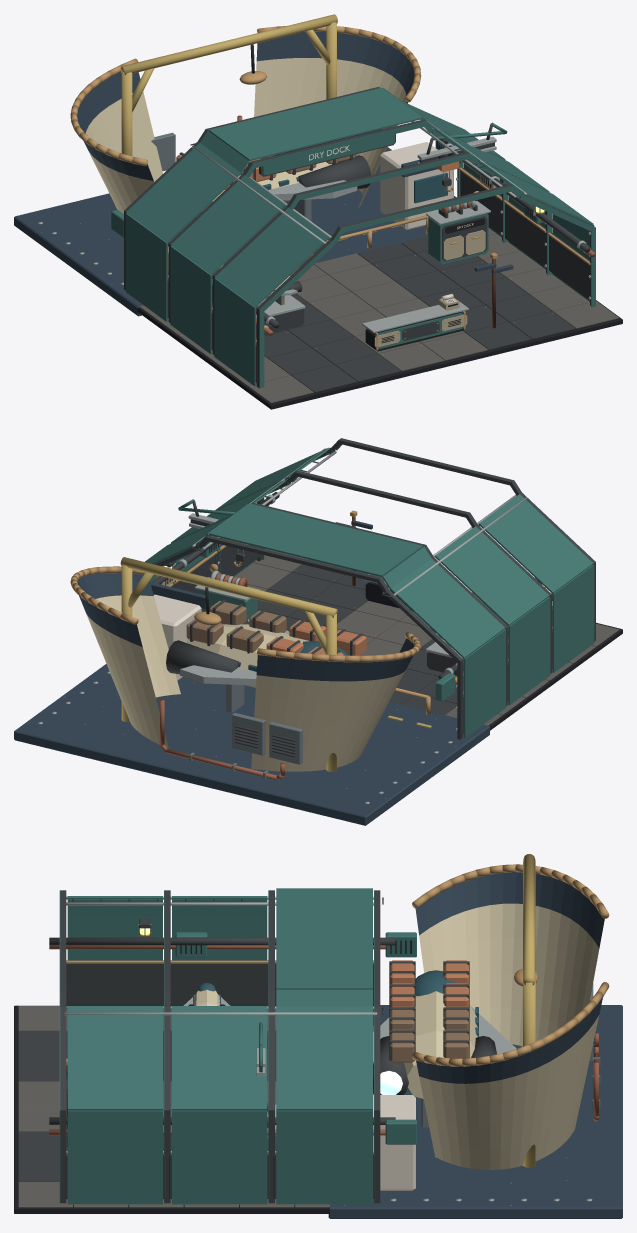
Rendered from sloshwell-yard.glb.
3 views of the same model, one above another, from view 1: azimuth 30°, elevation 25°; view 2: azimuth 150°, elevation 25°; view 3: azimuth 270°, elevation 25° (orthographic). The views are drawn at different scales.
Parts seen in each view (by area): view 1: sloshwell-yard; view 2: sloshwell-yard; view 3: sloshwell-yard.
Part boxes in pixels (x1,y1,x2,y2): sloshwell-yard: (14,14,622,409); sloshwell-yard: (14,438,622,825); sloshwell-yard: (14,854,622,1218).
Bounding box in the file's own units: 17.1 × 7.93 × 21.62.
23 materials, 18 textured.
